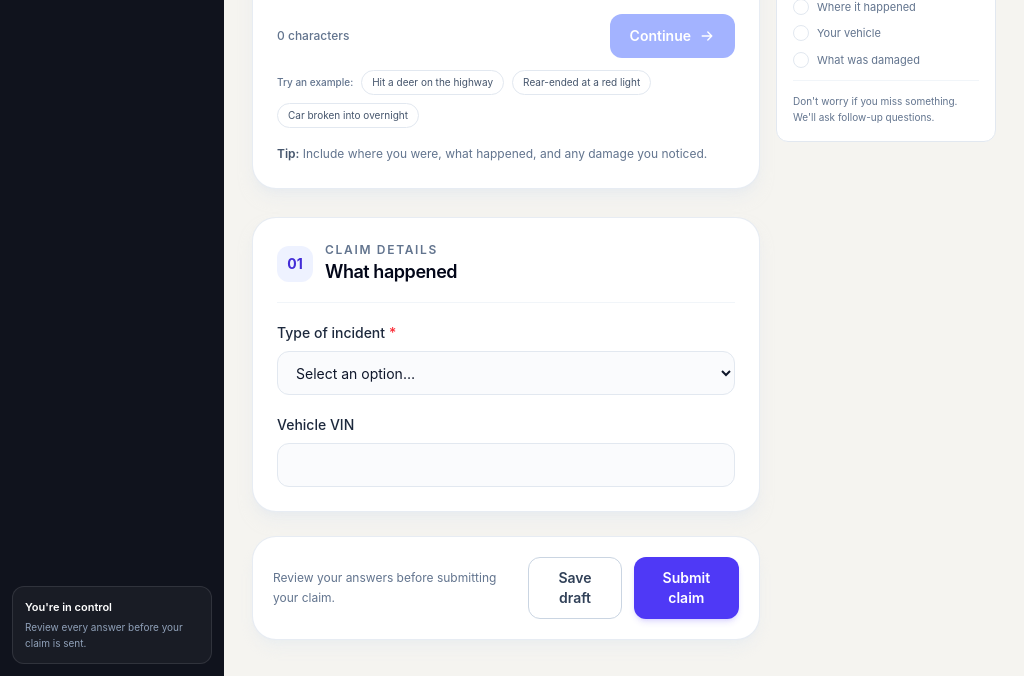
Scenario: ClaimPage draft and submission flow › maps server validation errors to the matching field
The image size is (1024, 676).
(page scrolled)
Select "Collision with a vehicle" in the dropdown labelled "Type of incident" at (506, 373), box [277,351,735,395]
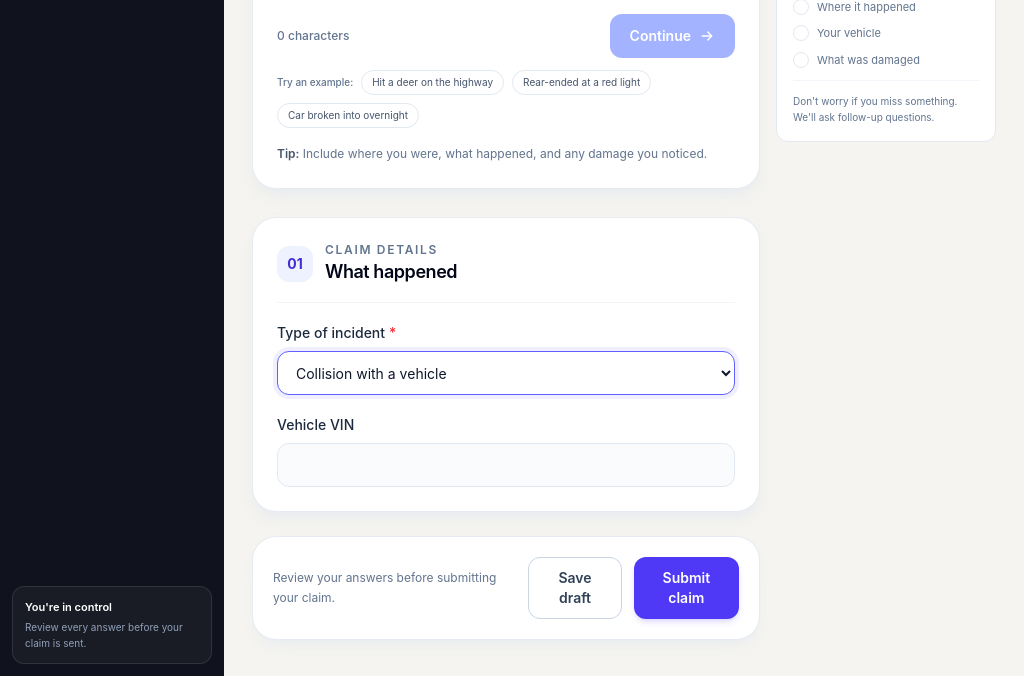
Click the button "Submit claim".
click(686, 588)  # box [634,557,739,619]
(page scrolled)
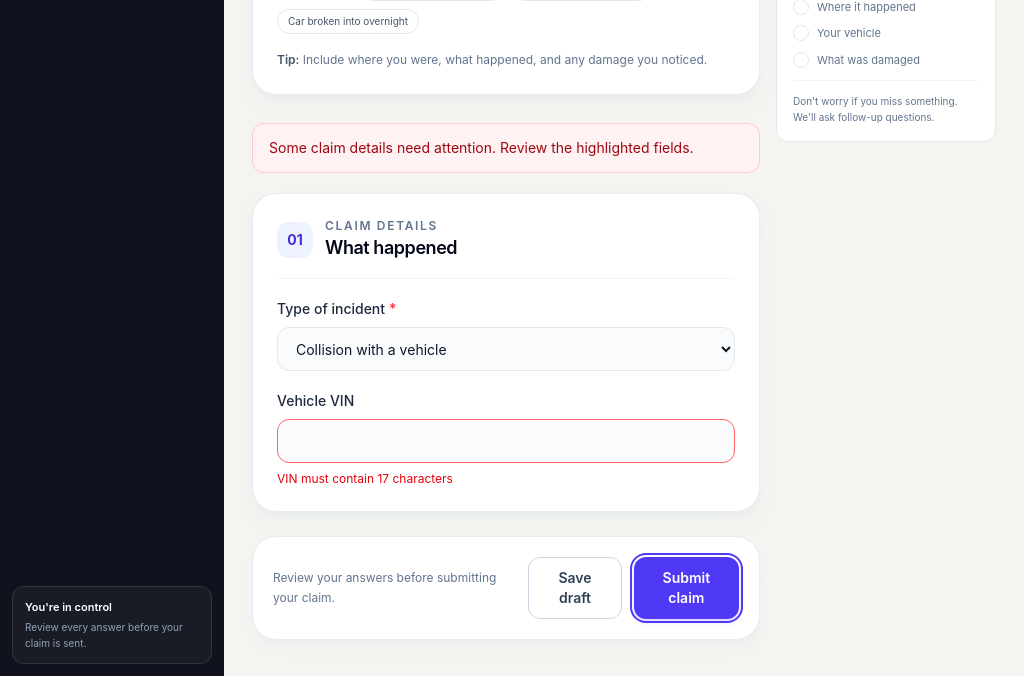
Check: the text "VIN must contain 17 characters" is shown, box [277,471,453,486]
Check: the text "Some claim details need attention. Review the highlighted fields." is shown, box [252,123,760,173]
Type "1HGCM82633A004352" into the field labelled "Vehicle VIN".
click(506, 441); type("1HGCM82633A004352")  # box [277,419,735,463]
(page scrolled)
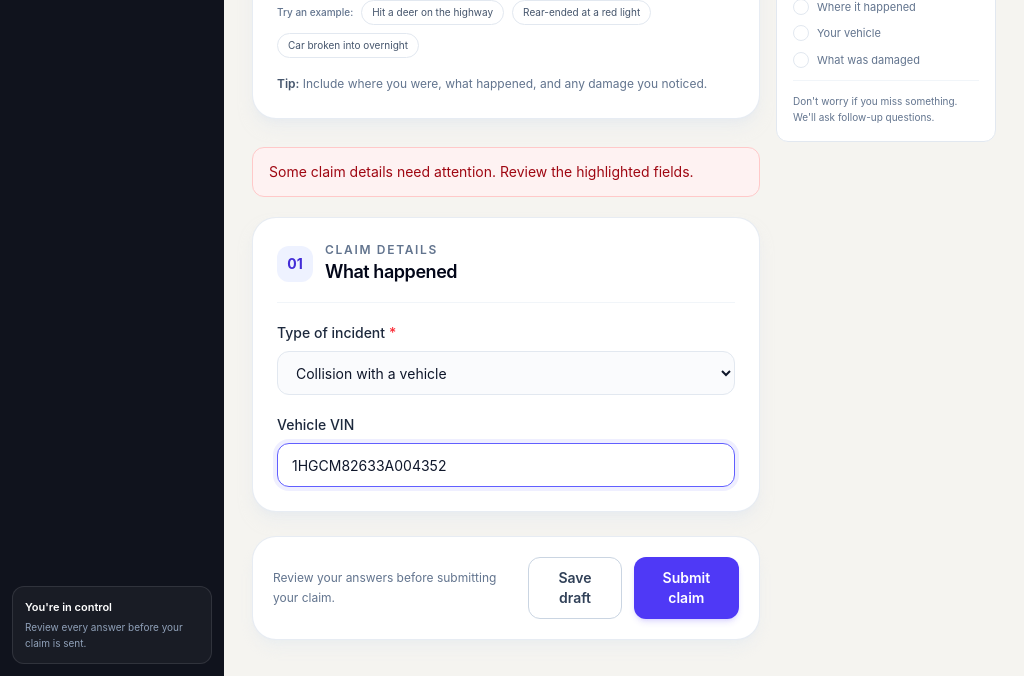
Check: the text "VIN must contain 17 characters" is gone
